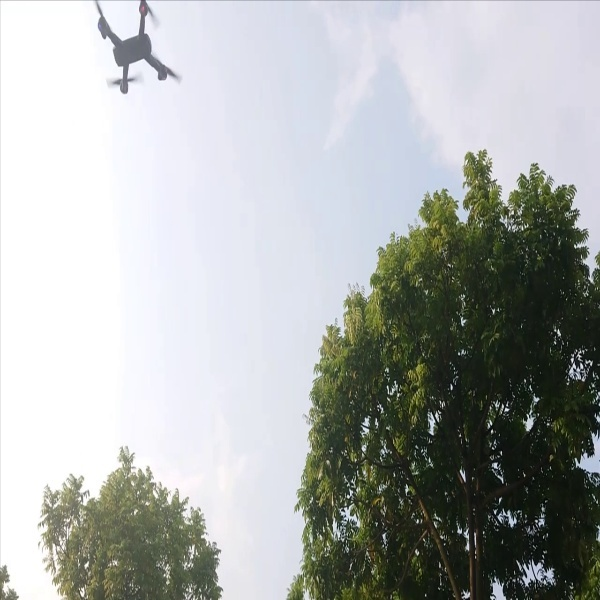drone: (82, 1, 191, 101)
